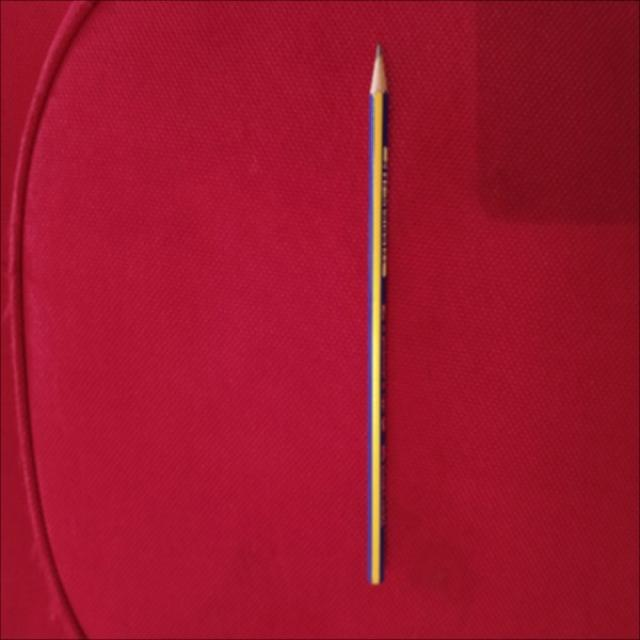pencil: (368, 45, 388, 584)
